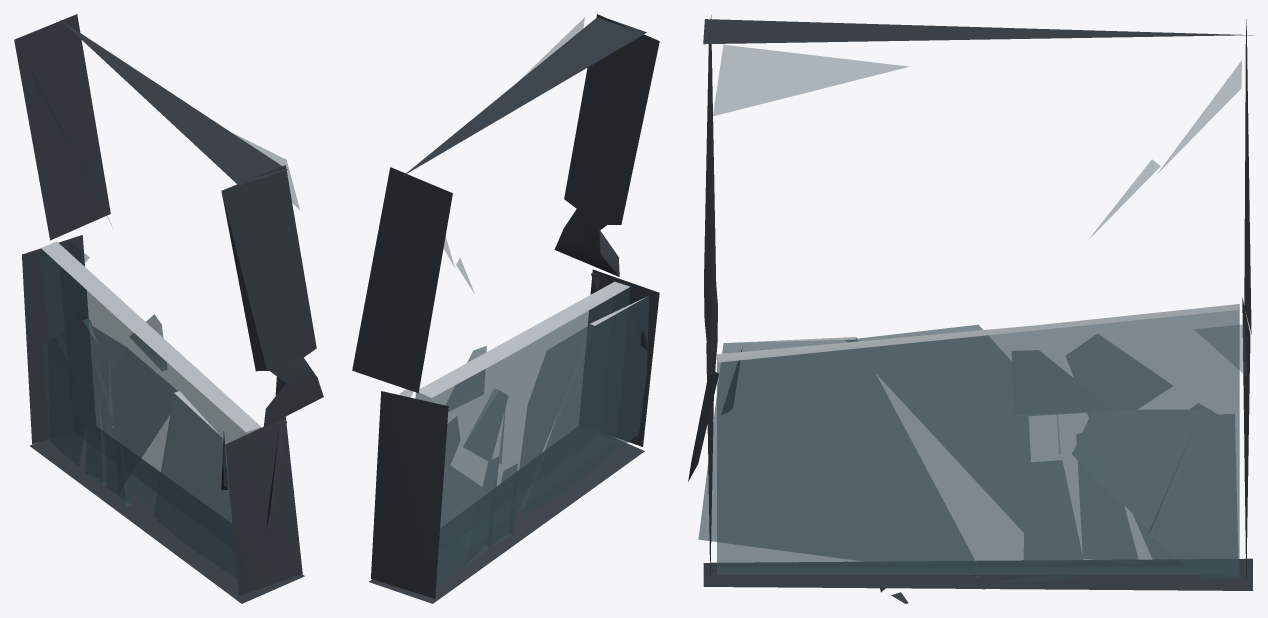
Rendered from shr_deb_generic_panel_glass_a.glb.
3 renders of one model, left to right at view 1: azimuth 30°, elevation 25°; view 2: azimuth 150°, elevation 25°; view 3: azimuth 270°, elevation 25°, orthographic. The views are drawn at different scales.
Parts seen in each view (by area): view 1: husk, frag_01, frag_02; view 2: husk, frag_01, frag_02; view 3: husk, frag_02, frag_01.
Boxes of the visible parts, box(x1,y1,x2,y2) form: husk: box(22, 235, 304, 603); frag_01: box(14, 14, 323, 427); frag_02: box(60, 20, 299, 209); husk: box(369, 269, 659, 603); frag_01: box(352, 14, 659, 393); frag_02: box(403, 17, 646, 175); husk: box(688, 297, 1252, 603); frag_02: box(703, 19, 1253, 115); frag_01: box(704, 15, 1251, 380).
Bounding box in the file's own units: 0.227 × 0.8947 × 0.824.
